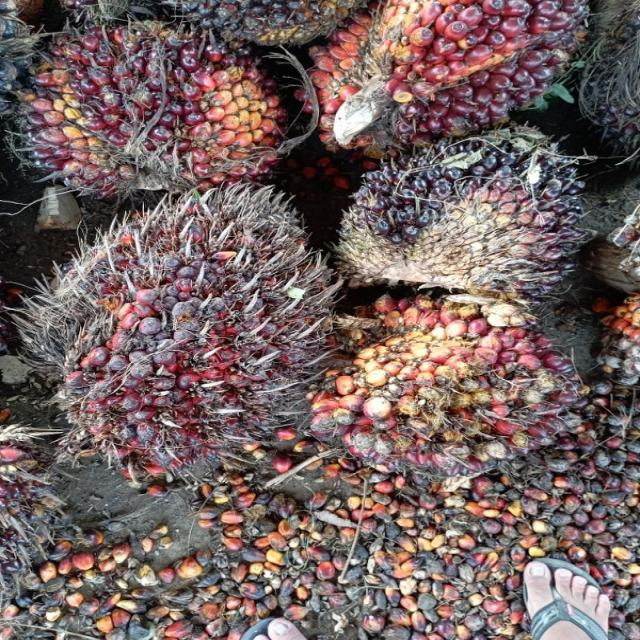fraksi 00: (349, 124, 585, 304)
fraksi 1: (17, 18, 283, 190)
fraksi 3: (328, 292, 584, 483), (305, 0, 579, 142)
fraksi 4: (35, 170, 325, 478)
